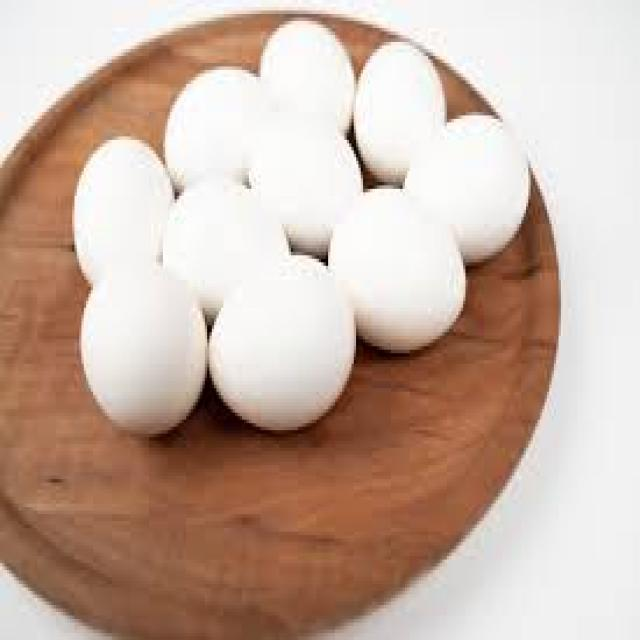White Egg: (216, 263, 371, 448), (334, 173, 472, 369), (405, 104, 541, 261), (64, 137, 177, 287), (93, 297, 211, 440)
